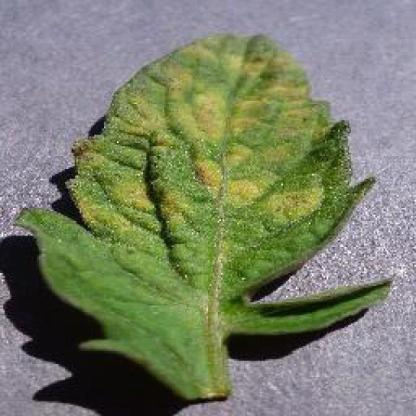Tomato_Leaf_Mold: (16, 36, 376, 396)
